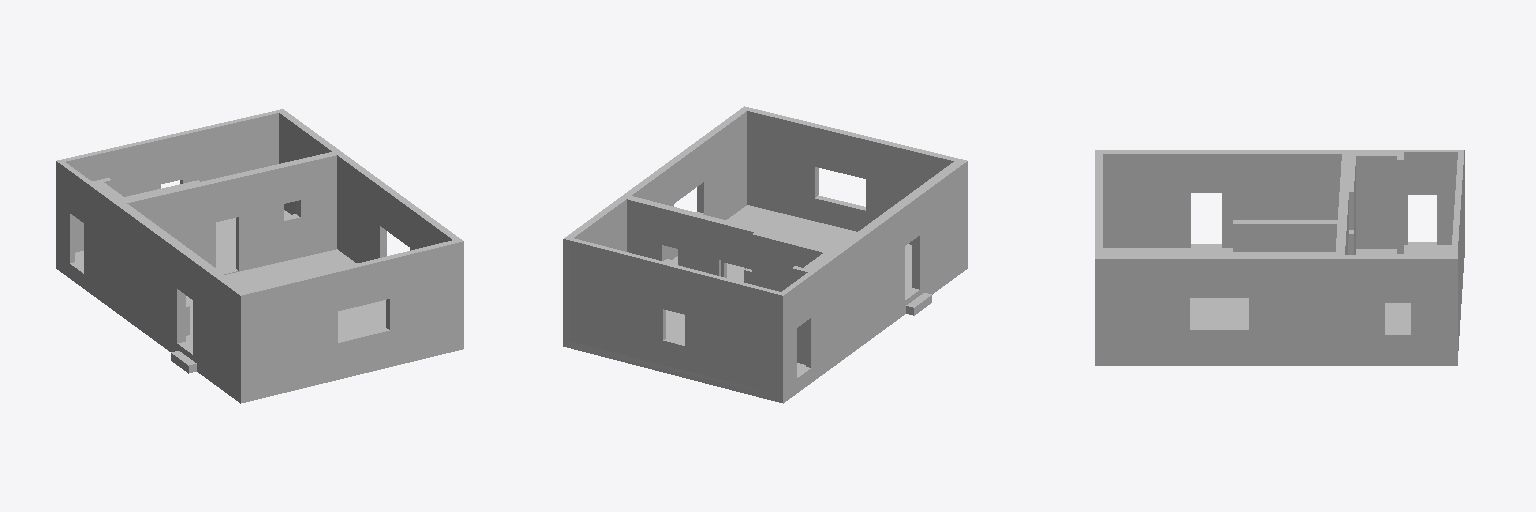
The model's file is svetnice.obj.
The picture shows the model from 3 angles: view 1: azimuth 30°, elevation 25°; view 2: azimuth 150°, elevation 25°; view 3: azimuth 270°, elevation 25°; orthographic projection.
Parts seen in each view (by area): view 1: Mesh1 Group1 Model; view 2: Mesh1 Group1 Model; view 3: Mesh1 Group1 Model.
Part boxes in pixels (x1,y1,x2,y2): Mesh1 Group1 Model: (56, 109, 463, 403); Mesh1 Group1 Model: (563, 106, 967, 403); Mesh1 Group1 Model: (1095, 150, 1464, 365).
Bounding box in the file's own units: 8.43 × 3.75 × 11.63.